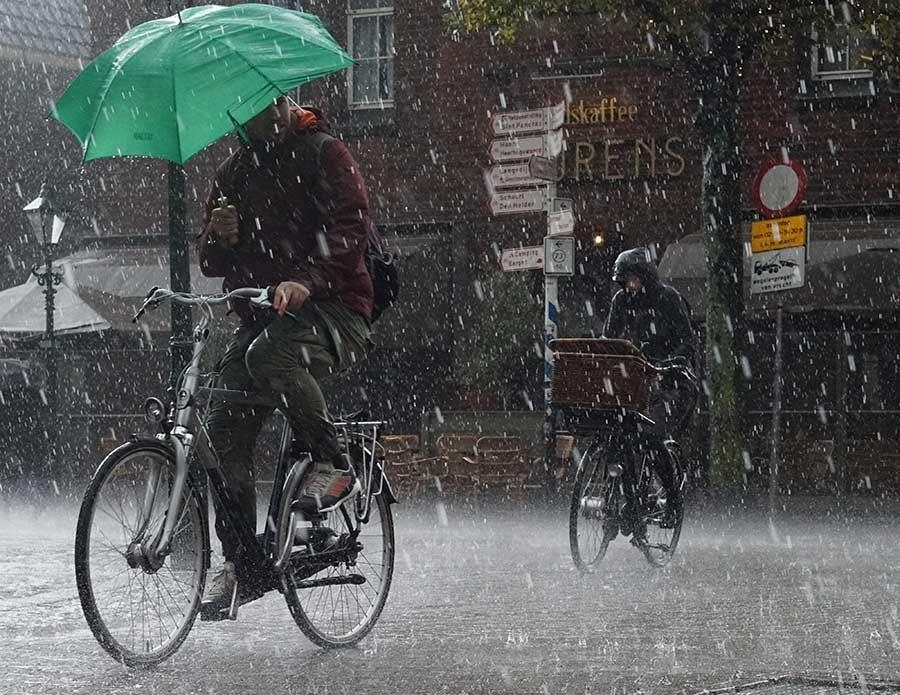bicycle: (74, 282, 399, 666), (572, 415, 683, 569)
